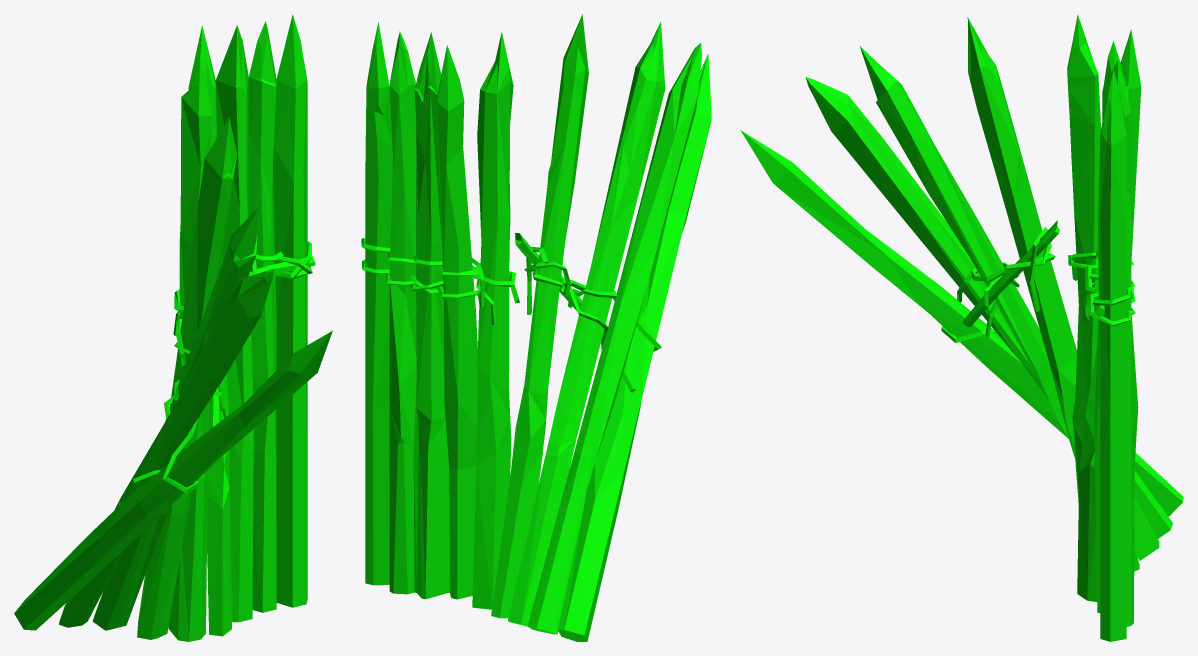
Rendered from SM_Palisade_3m_Broken_F.fbx.
3 renders of one model, left to right at view 1: azimuth 30°, elevation 25°; view 2: azimuth 150°, elevation 25°; view 3: azimuth 270°, elevation 25°, orthographic. The views are drawn at different scales.
Parts seen in each view (by area): view 1: palisade-3m-broken-f; view 2: palisade-3m-broken-f; view 3: palisade-3m-broken-f.
Part boxes in pixels (x1,y1,x2,y2): palisade-3m-broken-f: (14, 14, 332, 641); palisade-3m-broken-f: (361, 14, 711, 641); palisade-3m-broken-f: (740, 14, 1183, 641).
Bounding box in the file's own units: 3.21 × 6.83 × 4.79.
